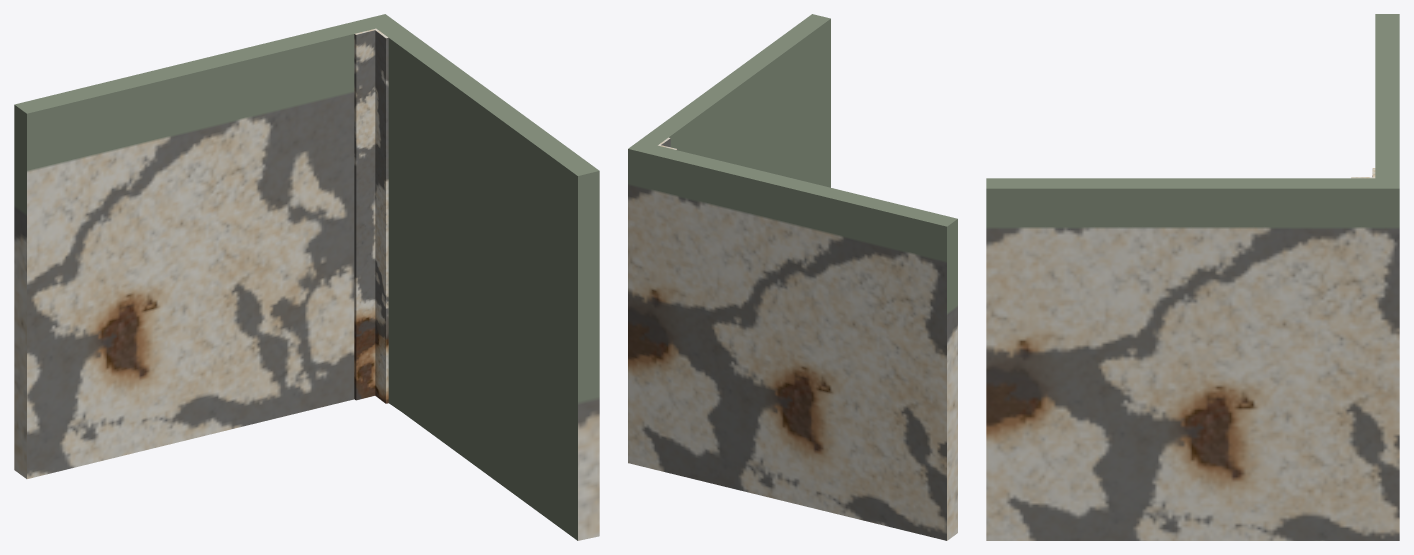
File: turnwall.fbx
3 renders of one model, left to right at view 1: azimuth 30°, elevation 25°; view 2: azimuth 150°, elevation 25°; view 3: azimuth 270°, elevation 25°, orthographic. The views are drawn at different scales.
Parts seen in each view (by area): view 1: Office_Wall_Solid_Corner2; view 2: Office_Wall_Solid_Corner2; view 3: Office_Wall_Solid_Corner2.
Part boxes in pixels (bbox=[...]): Office_Wall_Solid_Corner2: bbox=[14, 14, 599, 540]; Office_Wall_Solid_Corner2: bbox=[628, 14, 957, 540]; Office_Wall_Solid_Corner2: bbox=[986, 14, 1399, 540].
Size of the model in its own units: 319 by 300 by 319.
